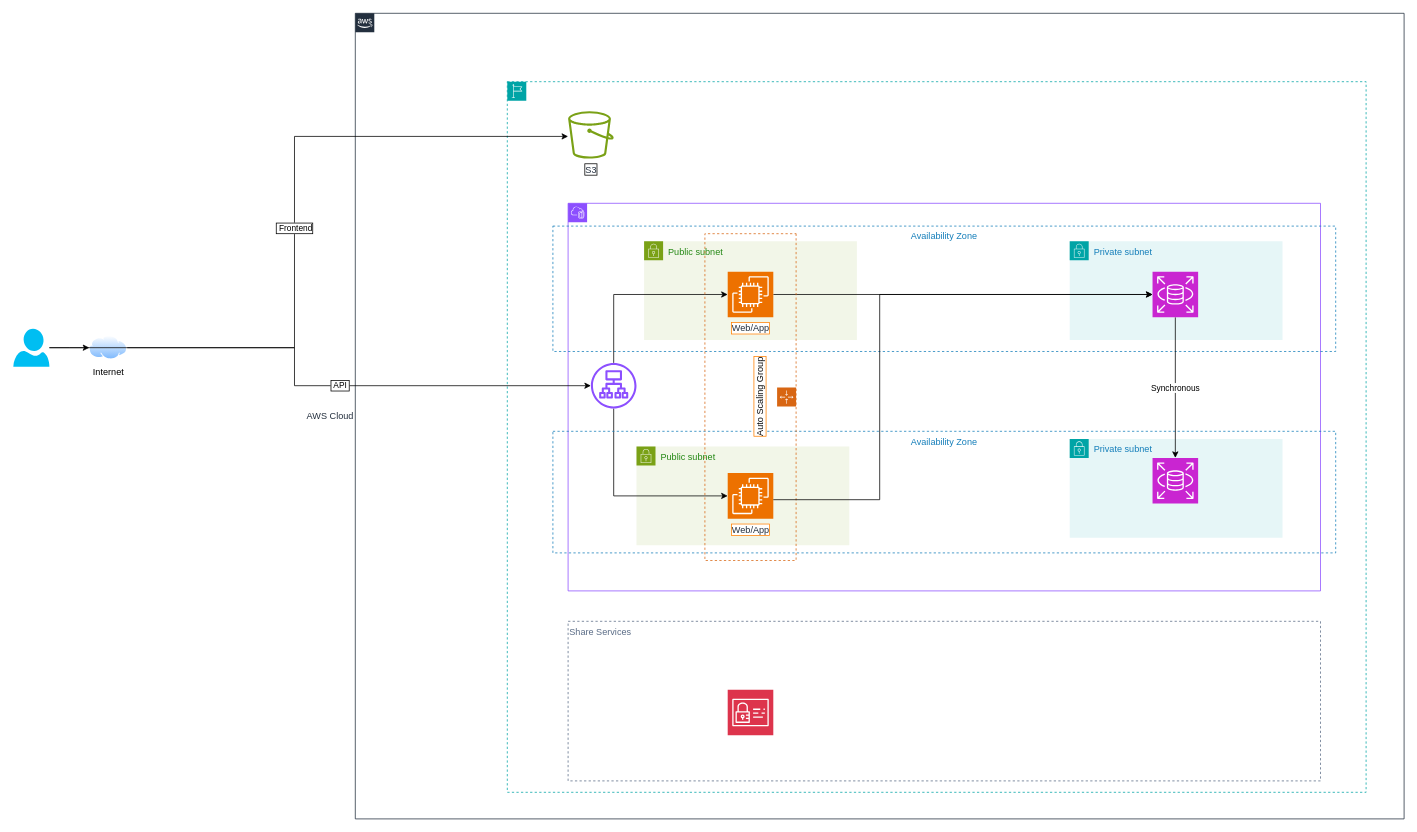
This 1417x832 diagram has some shape labels left out. Each missing label, with the box of its shape:
Application Load Balancer: (591, 363, 636, 408)
IAM: (727, 689, 773, 735)
Primary DB: (1152, 271, 1198, 317)
Region: (507, 81, 1366, 792)
Standby DB: (1152, 457, 1198, 504)
User: (13, 328, 49, 366)
VPC: (567, 203, 1320, 591)
